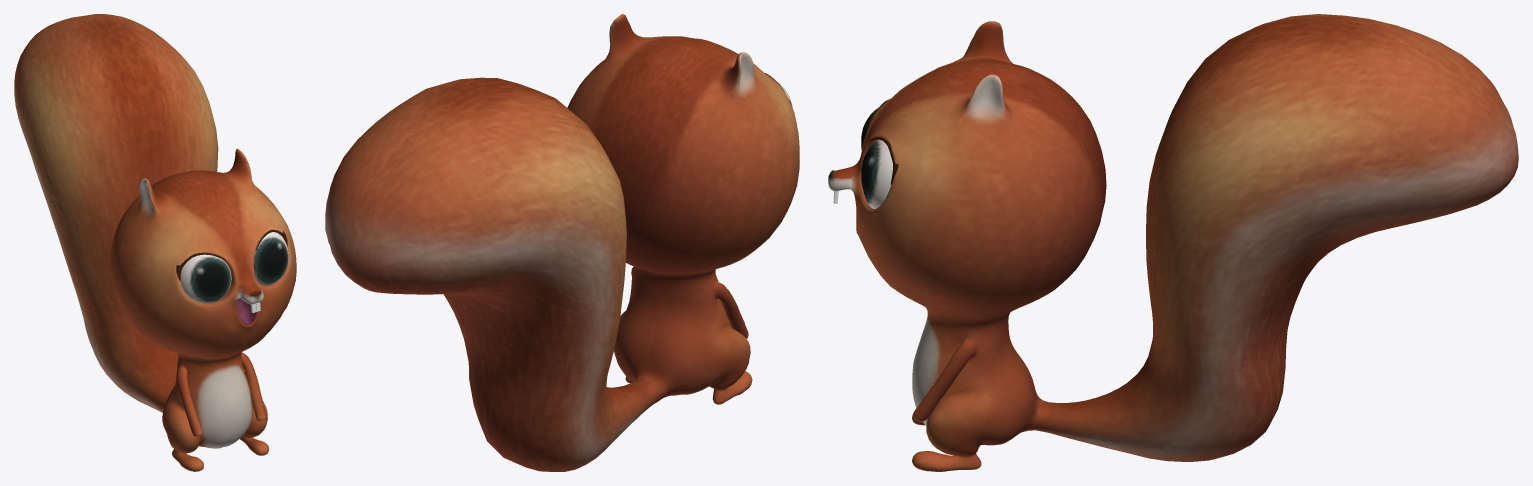
File: squirrel.glb
The picture shows the model from 3 angles, left to right: view 1: azimuth 30°, elevation 25°; view 2: azimuth 150°, elevation 25°; view 3: azimuth 270°, elevation 25°; orthographic projection. The views are drawn at different scales.
Parts seen in each view (by area): view 1: squirrel.1; view 2: squirrel.1; view 3: squirrel.1.
Boxes of the visible parts, left/top/right/bottom form: squirrel.1: left=14, top=14, right=296, bottom=471; squirrel.1: left=325, top=14, right=799, bottom=471; squirrel.1: left=828, top=14, right=1518, bottom=471.
Size of the model in its own units: 0.0347 by 0.0548 by 0.0777.
1 material, 1 textured.
